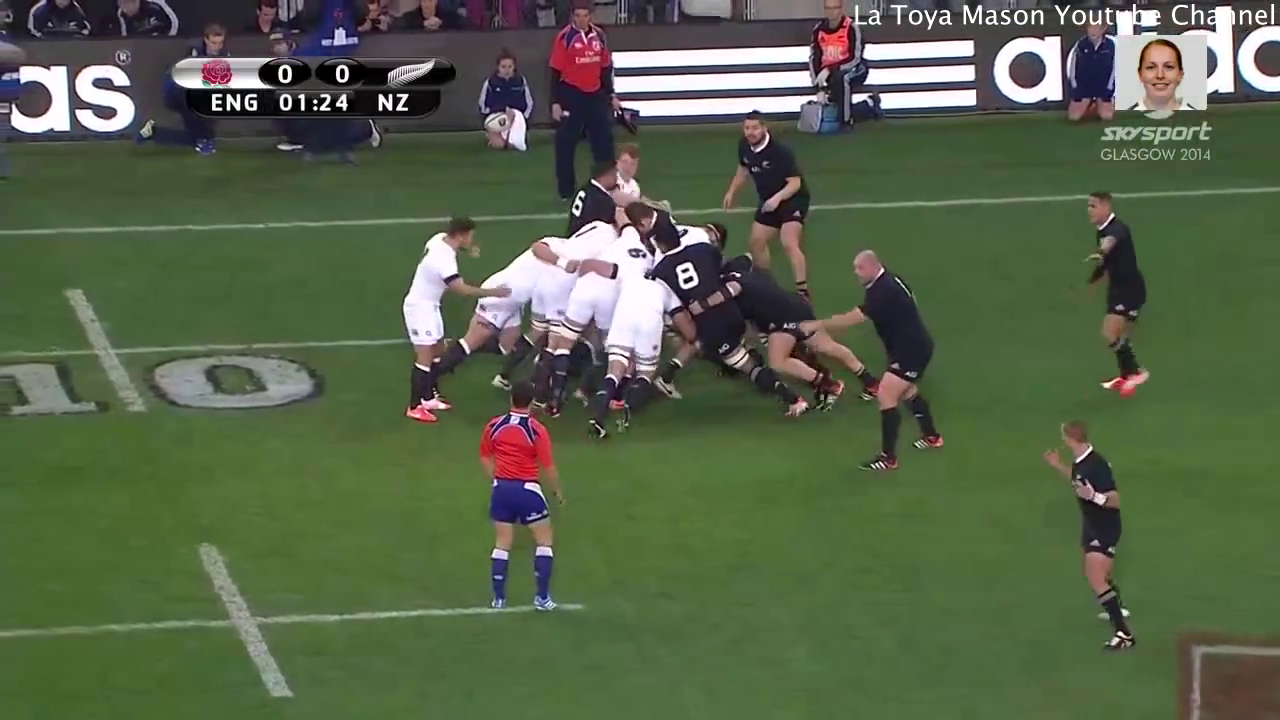10_metre: (1, 536, 597, 706), (2, 275, 465, 430)
player: (789, 241, 949, 476), (635, 233, 829, 416), (701, 251, 895, 424), (389, 210, 516, 432), (1038, 412, 1148, 659), (417, 217, 565, 393), (718, 102, 830, 320), (471, 375, 569, 623), (580, 262, 701, 450), (1068, 186, 1160, 409), (522, 260, 625, 414), (548, 149, 633, 237)
